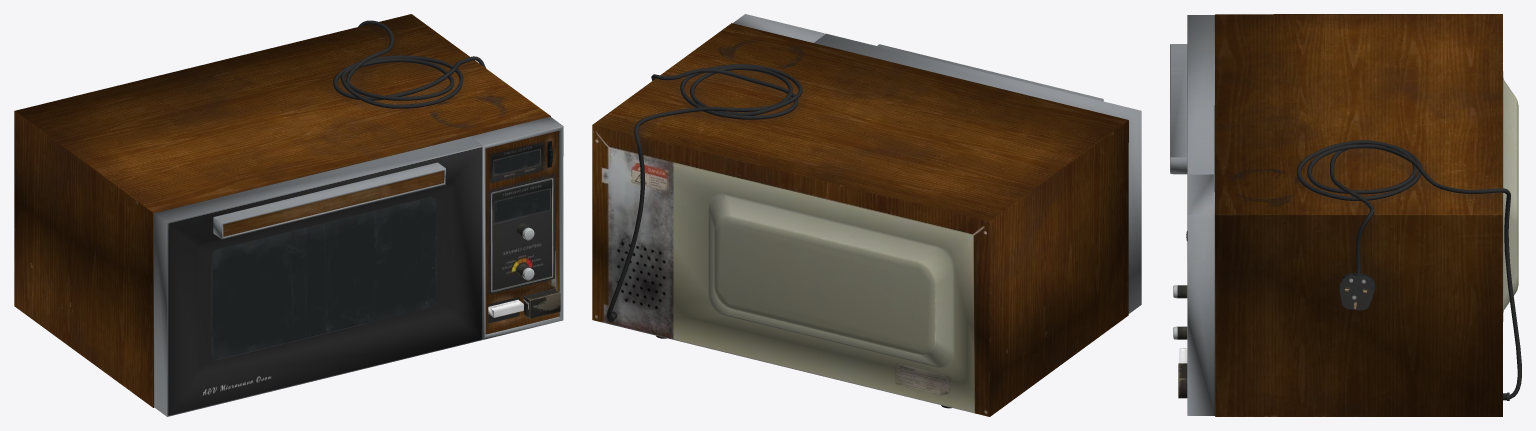
The model's file is vintage_microwave.glb.
The picture shows the model from 3 angles, left to right: view 1: azimuth 30°, elevation 25°; view 2: azimuth 150°, elevation 25°; view 3: azimuth 270°, elevation 25°; orthographic projection. The views are drawn at different scales.
Visible parts, largest first — view 1: vintage_microwave; view 2: vintage_microwave; view 3: vintage_microwave.
Boxes of the visible parts, x1,y1,x2,y2 form: vintage_microwave: (14,14,563,416); vintage_microwave: (592,14,1141,416); vintage_microwave: (1170,14,1521,416).
Size of the model in its own units: 1.07 by 0.5258 by 0.7451.
2 materials, 2 textured.
